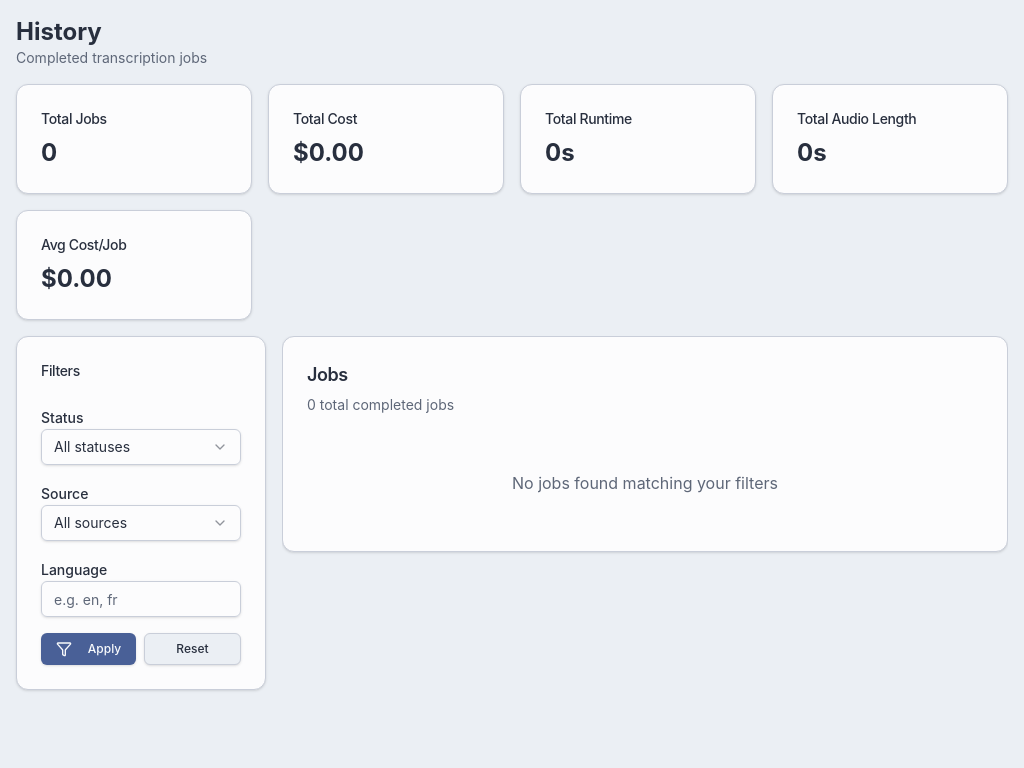
Scenario: HistoryPage › Apply submits the language filter and Reset clears it
The width and height of the screenshot is (1024, 768).
Step 1. Type "fr" into the field with placeholder "e.g. en, fr" → (141, 599), box [41, 581, 241, 617]
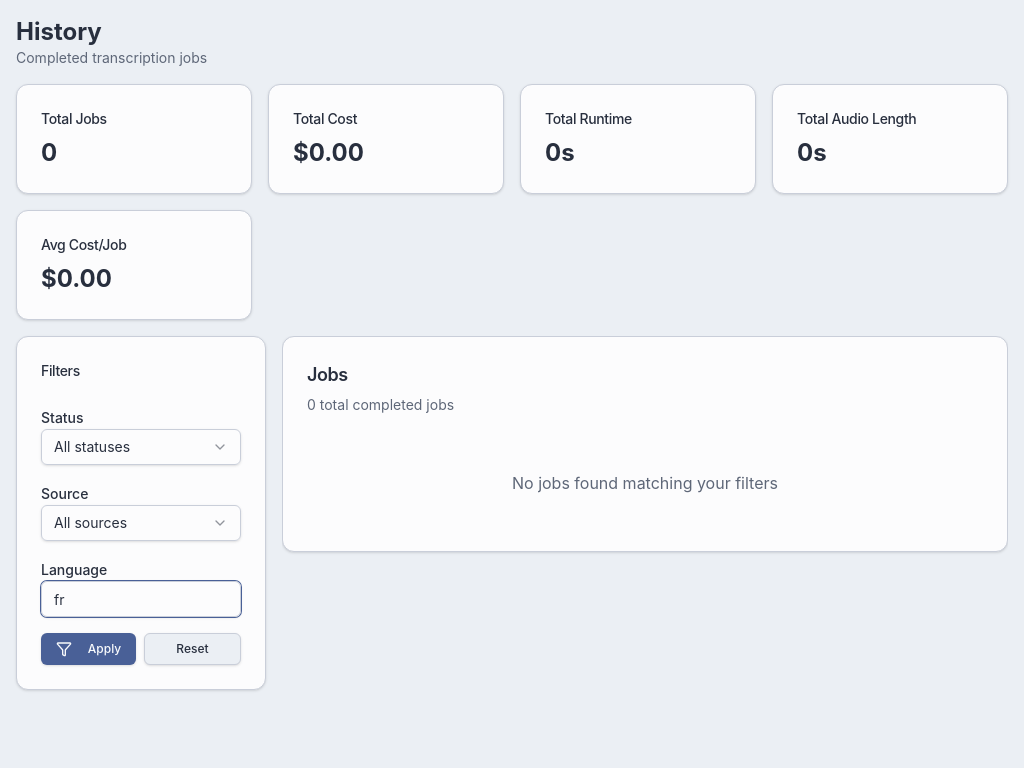
Step 2. Click the button "Apply" → (88, 649), box [41, 633, 136, 665]
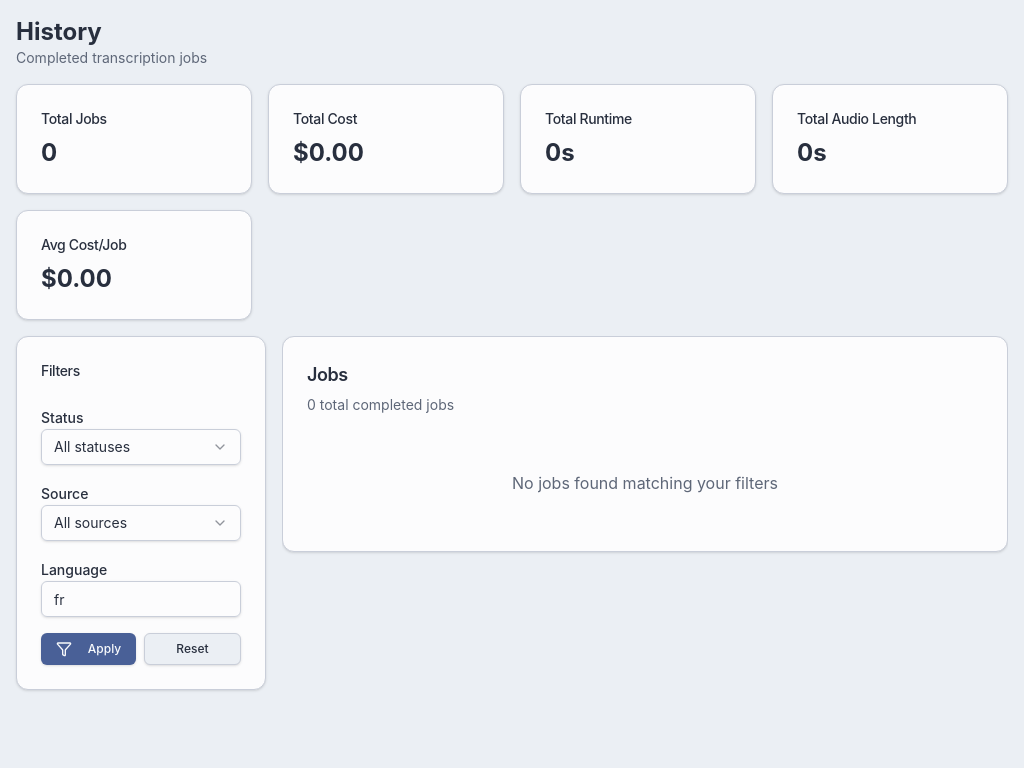
Step 3. Click the button "Reset" → (192, 649), box [144, 633, 241, 665]
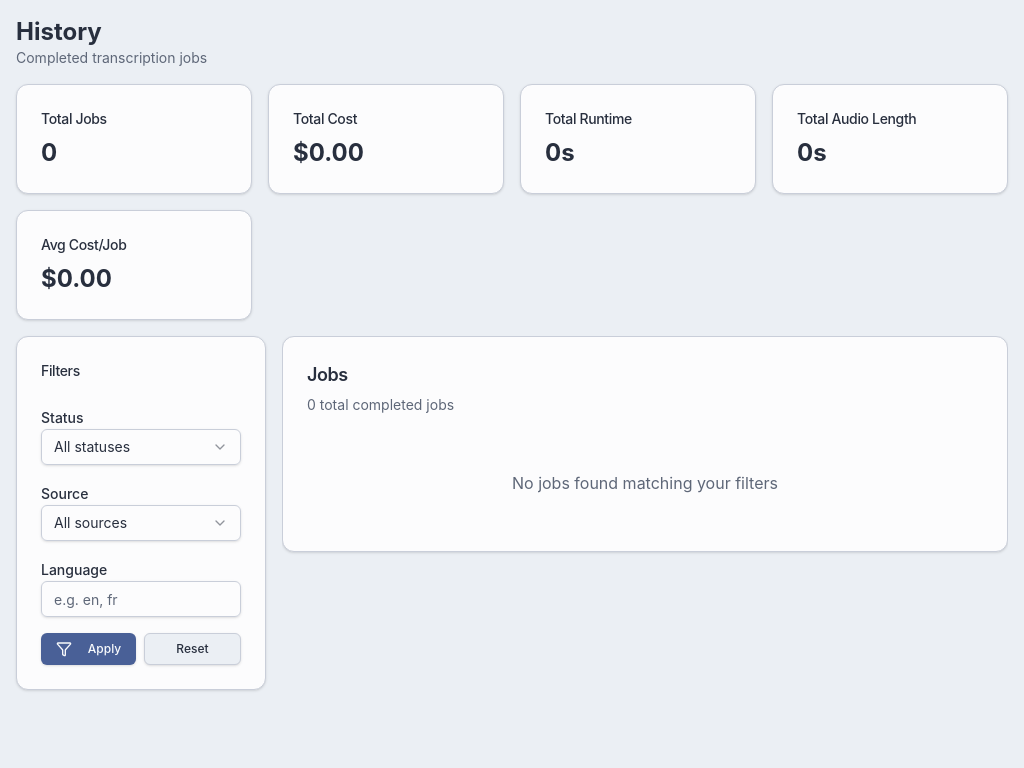
expect the field with placeholder "e.g. en, fr" is empty: met, box [41, 581, 241, 617]
